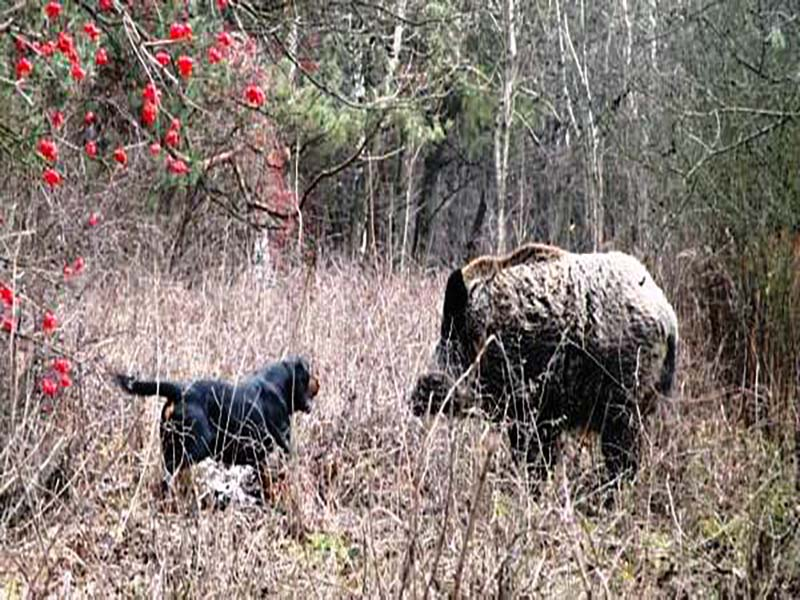cane da caccia: (116, 353, 325, 509)
cinghiale: (418, 246, 684, 499)
